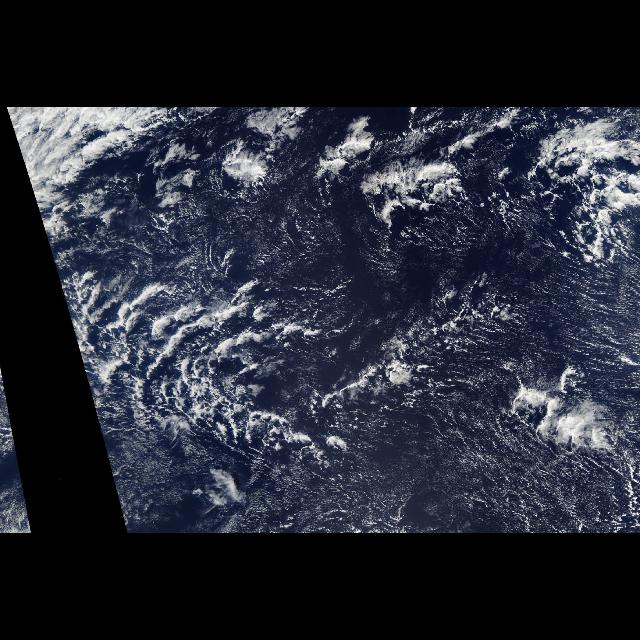Gravel: (75, 276, 331, 460)
Sugar: (348, 418, 608, 534), (469, 238, 639, 404)
